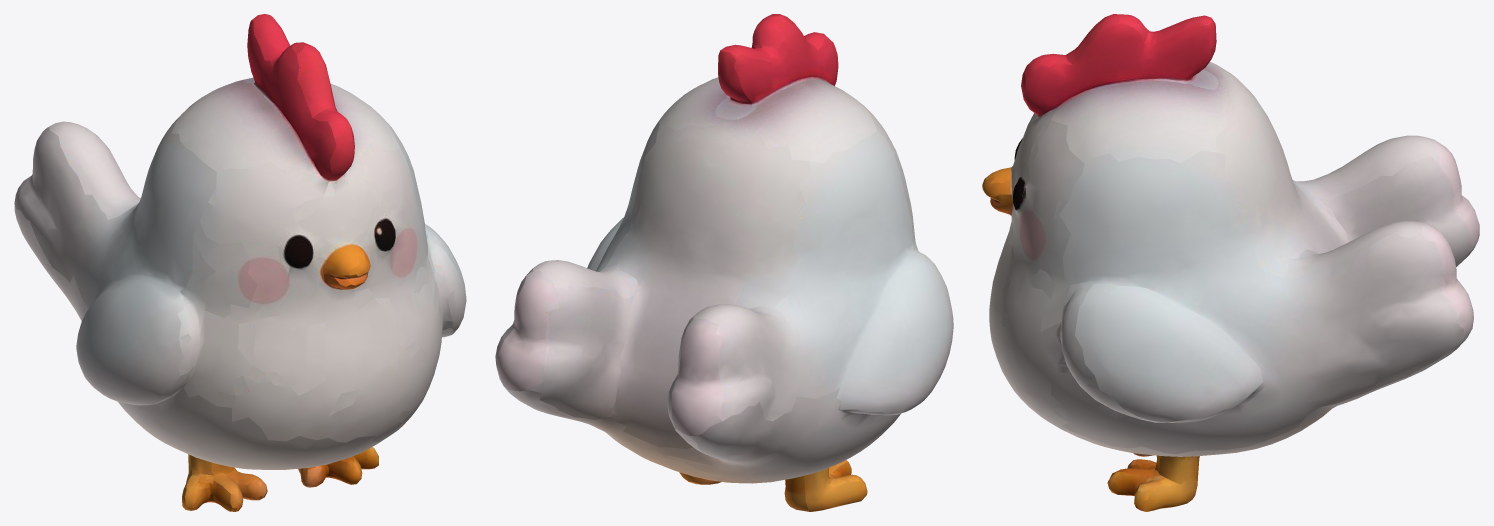
File: chicken.glb
The picture shows the model from 3 angles, left to right: view 1: azimuth 30°, elevation 25°; view 2: azimuth 150°, elevation 25°; view 3: azimuth 270°, elevation 25°; orthographic projection.
Parts seen in each view (by area): view 1: chicken; view 2: chicken; view 3: chicken.
Part boxes in pixels (<box>): chicken: <box>14,14,466,511</box>; chicken: <box>495,14,953,511</box>; chicken: <box>982,14,1479,511</box>.
Size of the model in its own units: 0.7968 by 1 by 0.9778.
1 material, 1 textured.
